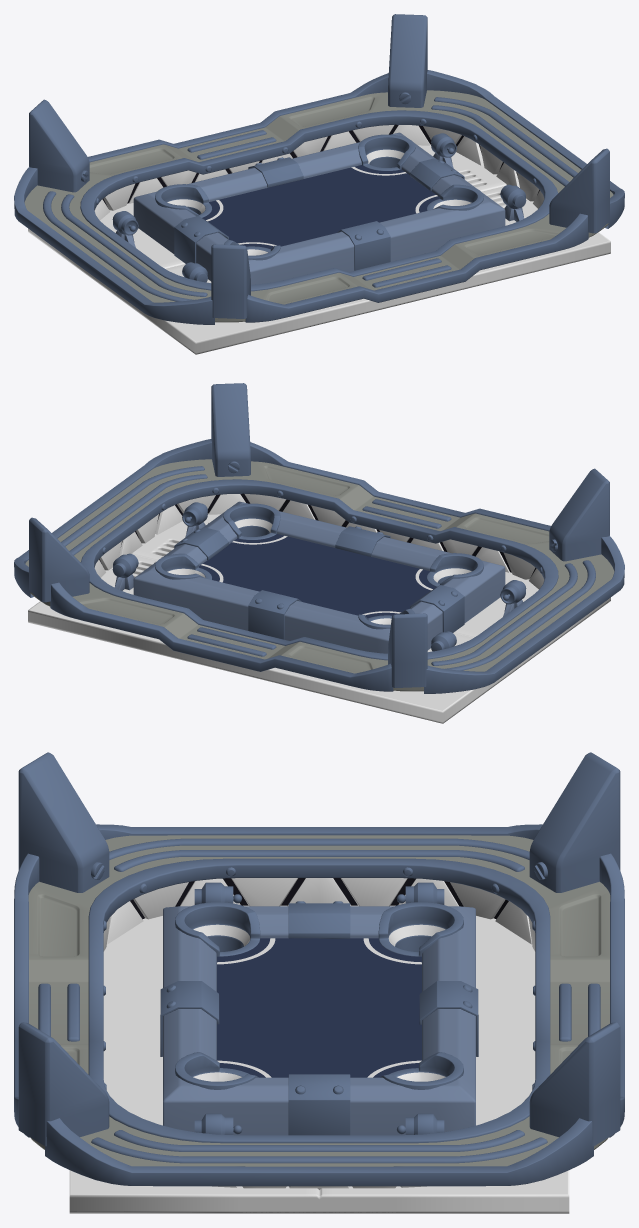
The model's file is NewArena.fbx.
3 renders of one model, top to bottom at view 1: azimuth 30°, elevation 25°; view 2: azimuth 150°, elevation 25°; view 3: azimuth 270°, elevation 25°, orthographic. The views are drawn at different scales.
Visible parts, largest first — view 1: backgroundBorder, arenaBorder, BackgroundBeams, ArenaFloor, BackgroundGround_, glassSupportTriangles, Holes; view 2: backgroundBorder, arenaBorder, BackgroundBeams, ArenaFloor, BackgroundGround_, glassSupportTriangles, Holes; view 3: backgroundBorder, BackgroundGround_, arenaBorder, BackgroundBeams, ArenaFloor, glassSupportTriangles, Holes.
Boxes of the visible parts, x1,y1,x2,y2 form: backgroundBorder: (14,70,624,324); arenaBorder: (133,132,505,284); BackgroundBeams: (29,14,609,318); ArenaFloor: (202,165,439,249); BackgroundGround_: (28,144,610,354); glassSupportTriangles: (94,124,544,282); Holes: (155,134,483,260); backgroundBorder: (14,439,624,693); arenaBorder: (133,501,505,653); BackgroundBeams: (29,383,609,687); ArenaFloor: (199,534,436,618); BackgroundGround_: (28,513,610,723); glassSupportTriangles: (94,493,544,651); Holes: (155,503,483,629); backgroundBorder: (14,824,624,1186); BackgroundGround_: (69,905,569,1213); arenaBorder: (160,901,478,1135); BackgroundBeams: (18,752,620,1146); ArenaFloor: (217,938,421,1077); glassSupportTriangles: (103,878,535,1189); Holes: (175,902,463,1089).
Bounding box in the file's own units: 1718 × 396 × 1283.
